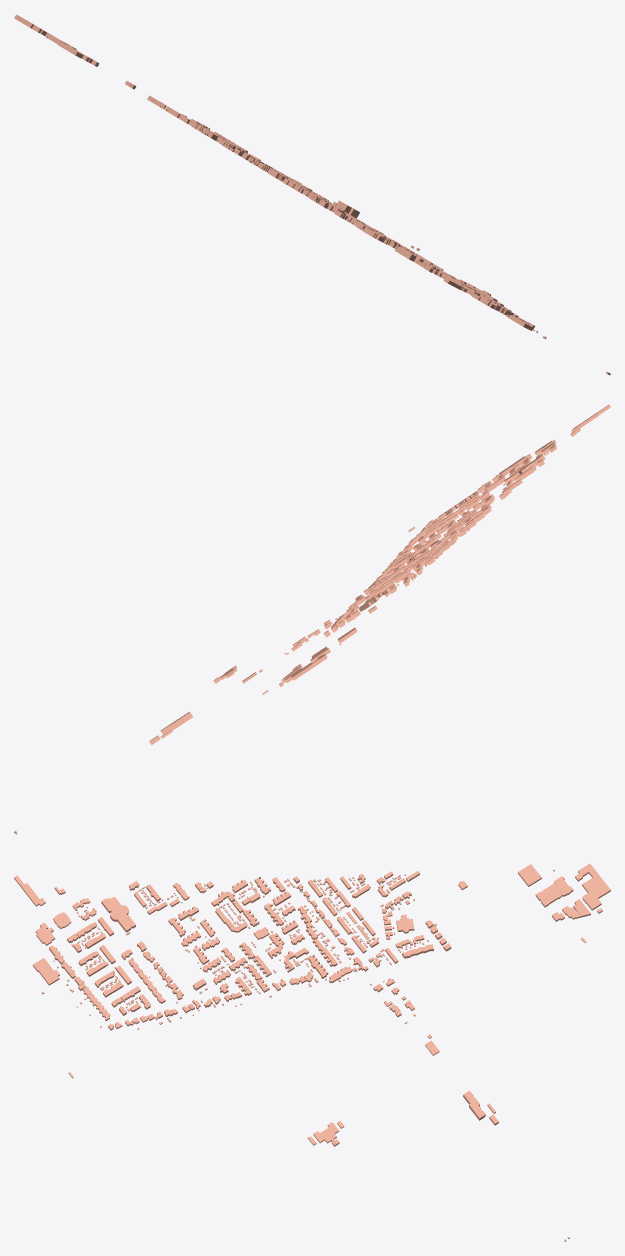
The picture shows the model from 3 angles, top to bottom: view 1: azimuth 30°, elevation 25°; view 2: azimuth 150°, elevation 25°; view 3: azimuth 270°, elevation 25°; orthographic projection. The views are drawn at different scales.
Size of the model in its own units: 695 by 554 by 1236.
